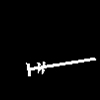treble_crochet: (26, 58, 95, 75)
